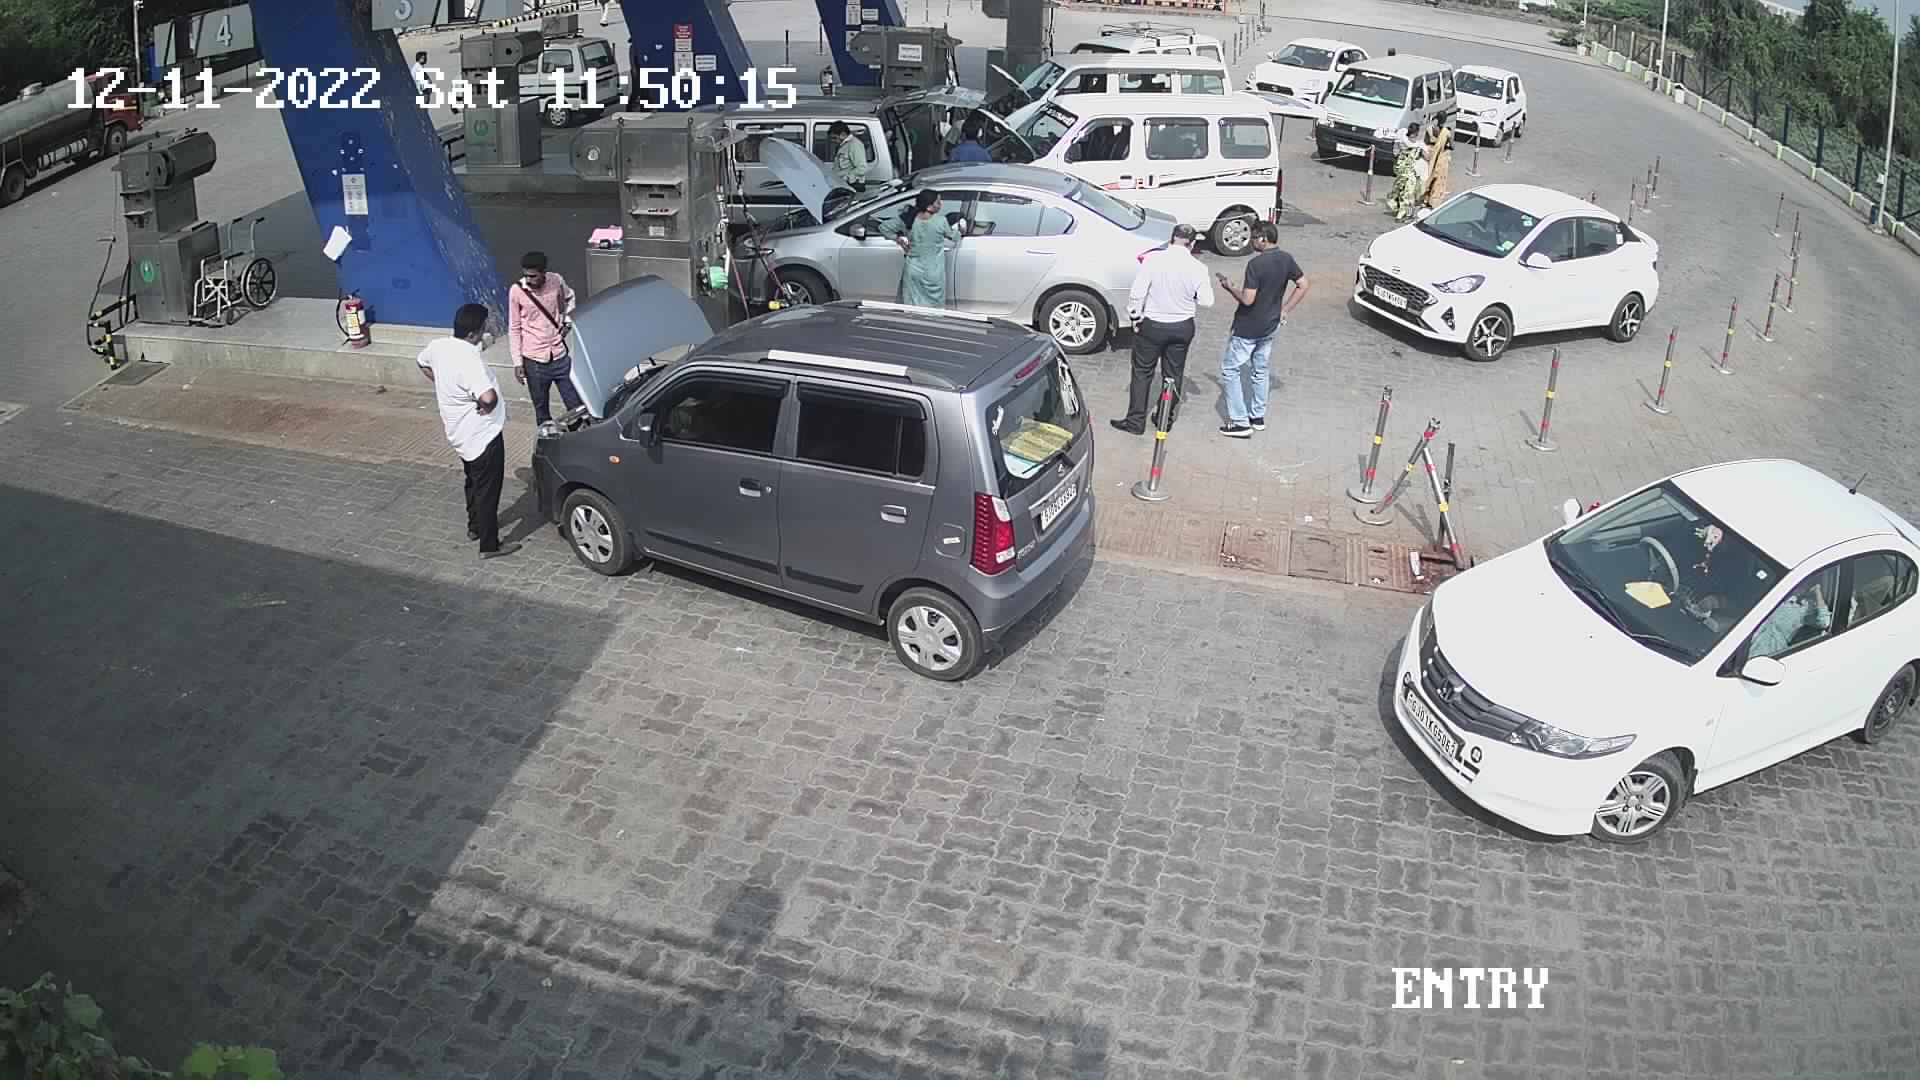Car: (518, 266, 1106, 690), (1369, 443, 1917, 851), (715, 127, 1189, 361), (1349, 164, 1663, 369), (964, 84, 1290, 262), (936, 44, 1237, 160), (1303, 50, 1462, 179), (1065, 13, 1240, 99), (512, 20, 626, 132), (1238, 32, 1379, 113), (1447, 55, 1531, 149)
HMV: (0, 62, 149, 210)
